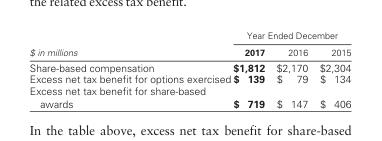table: (28, 29, 350, 109)
table column: (28, 29, 231, 109), (269, 29, 313, 109), (231, 29, 269, 109), (313, 29, 350, 109)
table column header: (28, 29, 350, 58)
table row: (28, 84, 350, 109), (28, 43, 350, 58), (28, 29, 350, 43), (28, 58, 350, 72), (28, 72, 350, 84)
table spanning cell: (28, 29, 231, 58), (231, 29, 350, 43)
